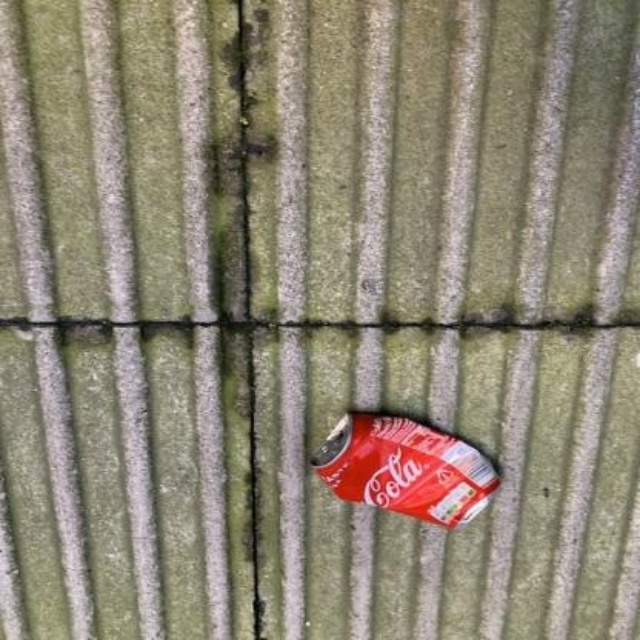trash: (311, 412, 498, 526)
